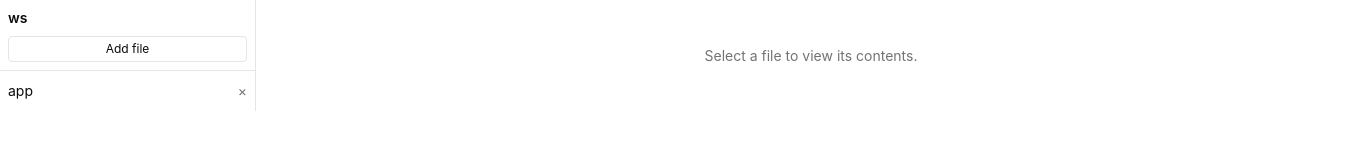
Test: WorkspacePage - Search results panel › hides the highlighted-lines list by default and shows it via the toolbar's show/hide button (US2)
Click the button "app". click: click(119, 91)
box: [8,81,230,101]
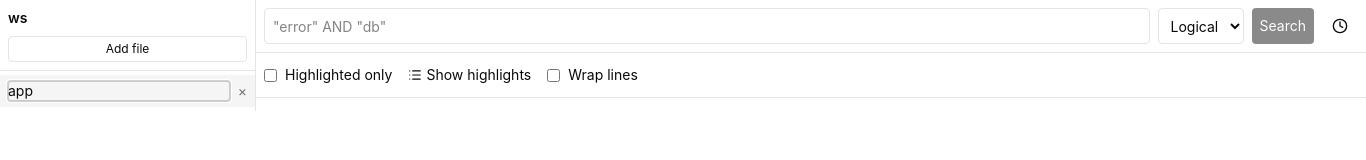
Check: the text "no highlighted lines" is not shown
Click the button "Show highlights". click: click(470, 75)
box: [400,61,539,89]
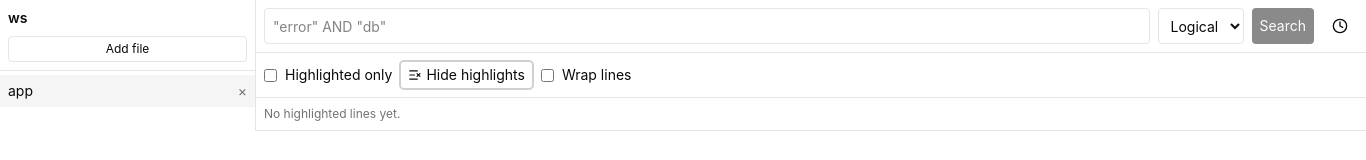
Check: the text "No highlighted lines yet." is shown, box [264,106,400,121]
Check: the element with id "highlighted-lines-panel" is shown, box [256,98,1365,131]
